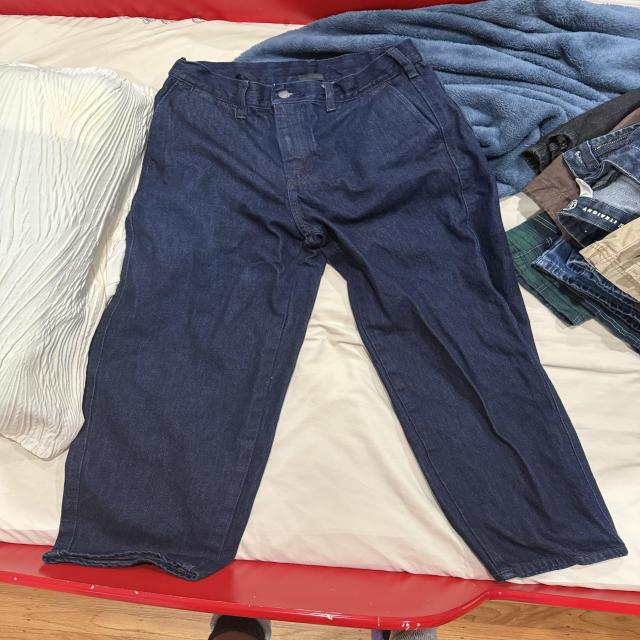back_tag: (292, 72, 332, 83)
